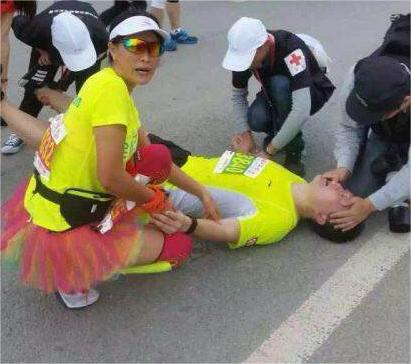bending: (18, 21, 206, 309), (216, 15, 336, 162)
down: (135, 123, 366, 254)
